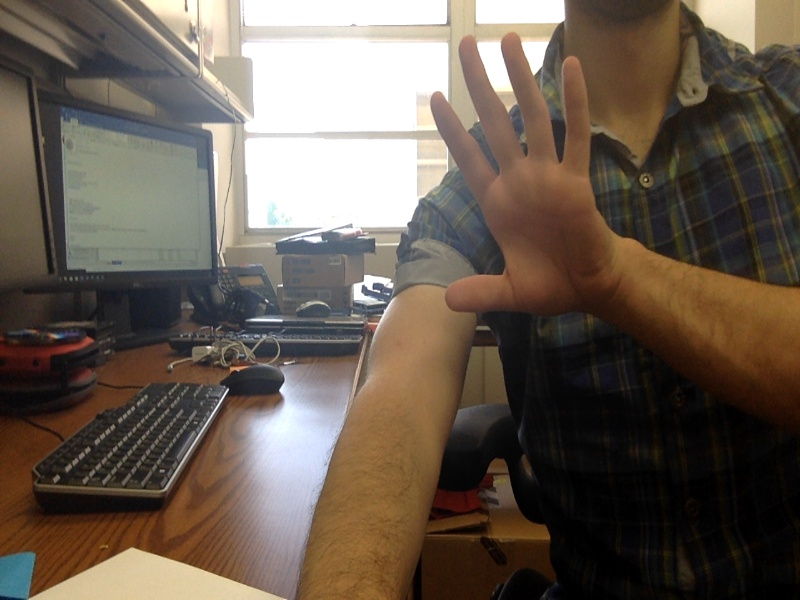5-hand: (430, 34, 624, 328)
